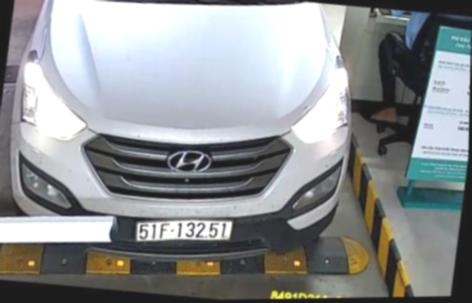License_Plate: (129, 218, 237, 250)
